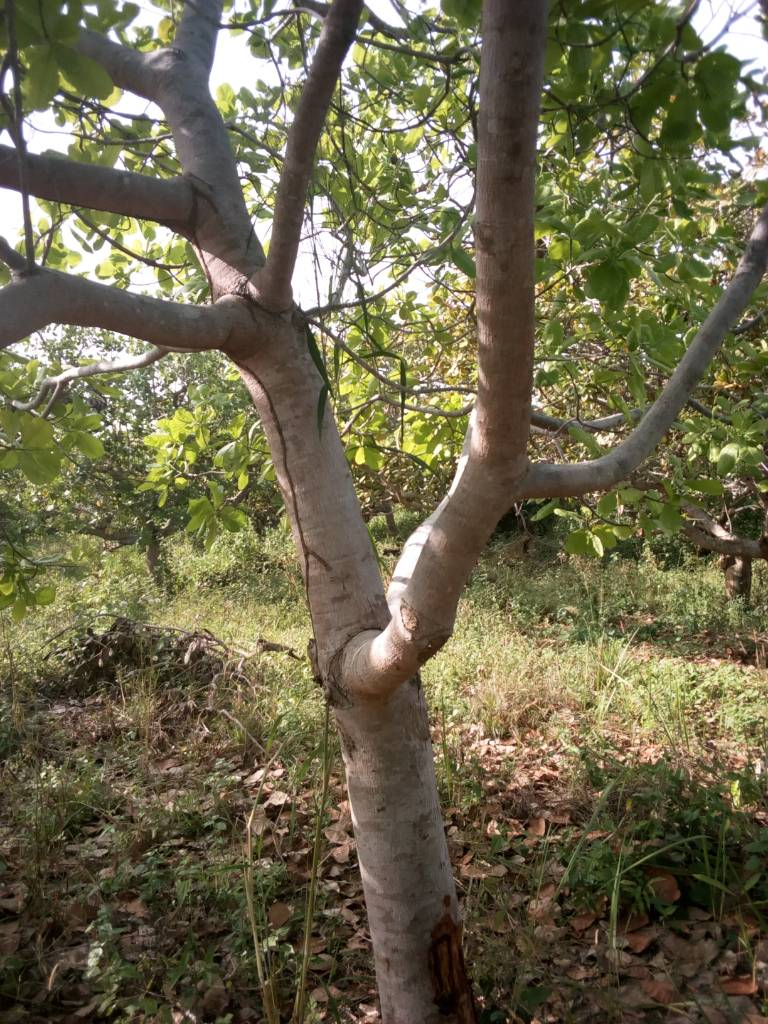Termites: (263, 397, 311, 583)
